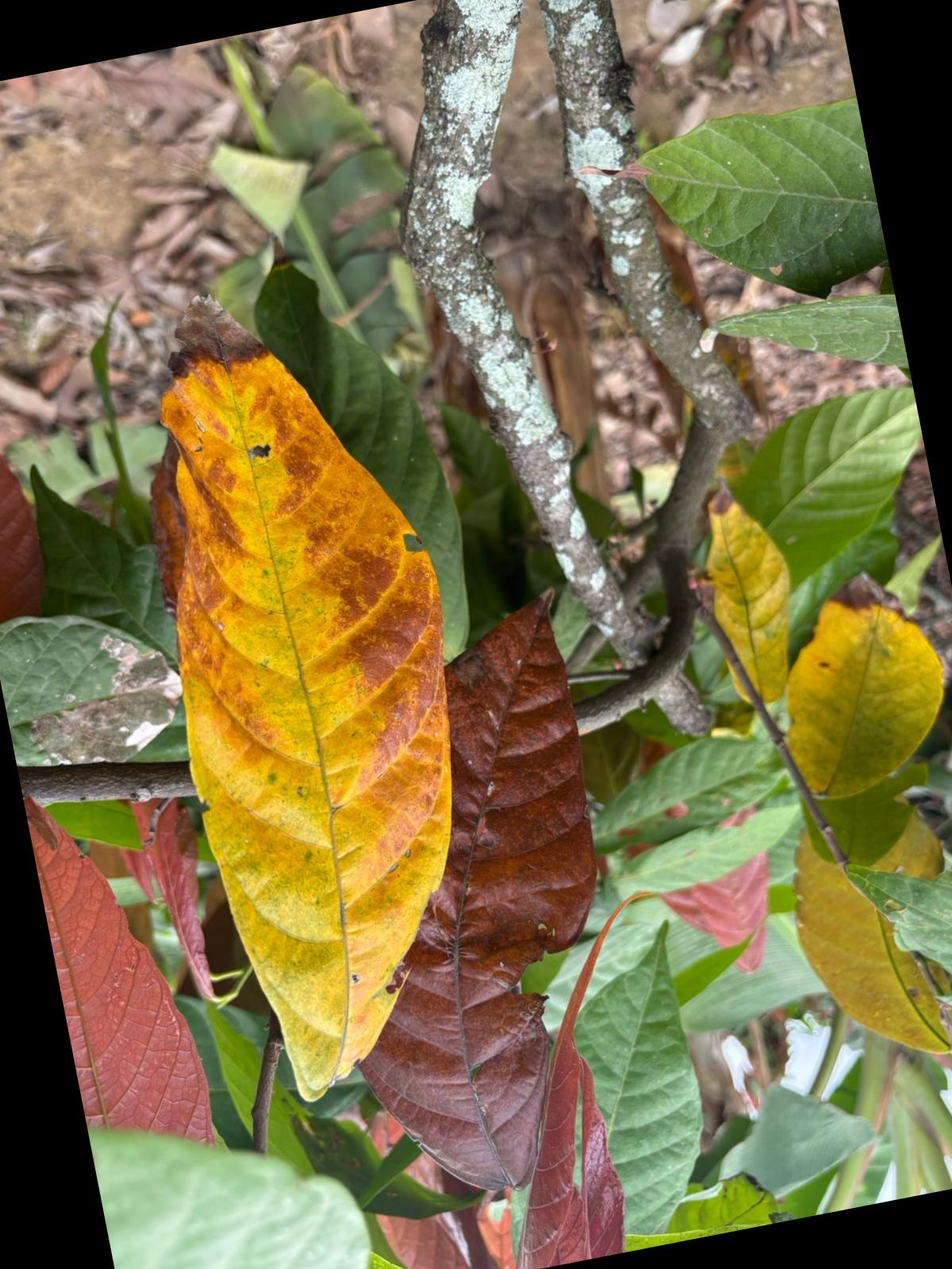Fosforo: (162, 296, 451, 1092)
